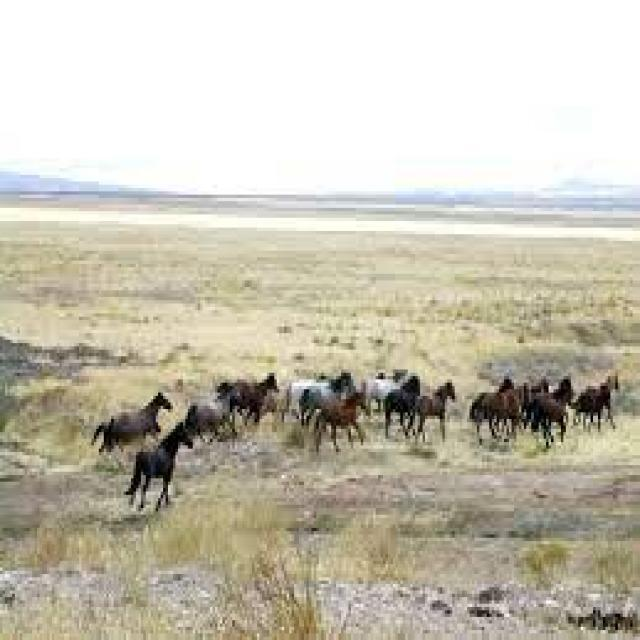horse-standing: (124, 420, 200, 522), (95, 389, 179, 456), (521, 372, 578, 451), (181, 384, 245, 453), (310, 387, 372, 458), (480, 369, 535, 445), (414, 380, 458, 458), (383, 372, 424, 453), (224, 371, 285, 423)
